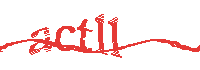a: (30, 27, 52, 55)
c: (54, 23, 76, 54)
l: (108, 14, 124, 60), (95, 14, 108, 57)
t: (77, 18, 94, 53)
